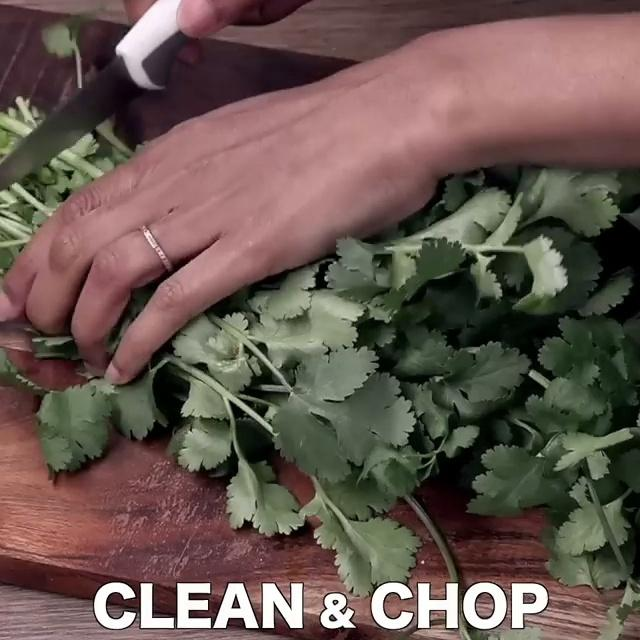cilantro: (275, 208, 640, 579)
